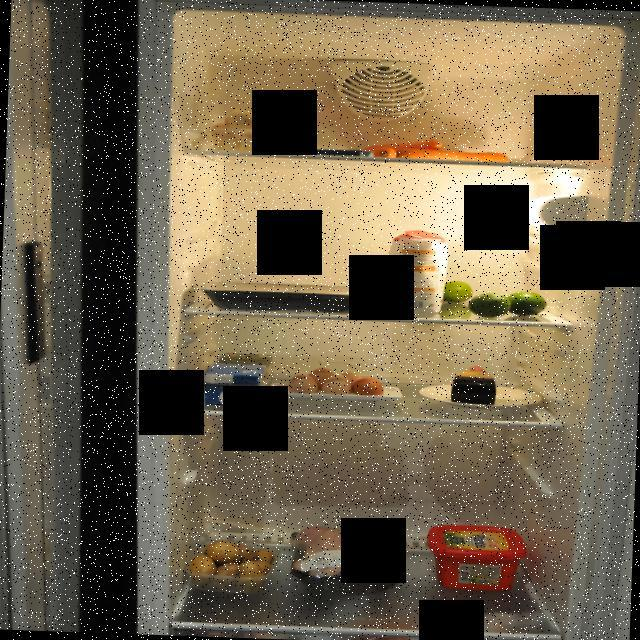Carne pollo: (286, 519, 406, 598)
Champiñones: (205, 105, 311, 156)
Huevos: (286, 363, 388, 402)
Leche: (202, 349, 274, 409)
Mantequilla: (419, 521, 528, 594)
Patata: (182, 536, 280, 596)
Queso: (447, 362, 502, 407)
Zanahoria: (359, 136, 514, 163)
